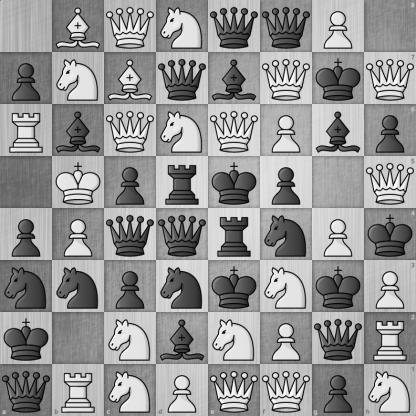B: (53, 1, 104, 52), (105, 53, 156, 104)
K: (53, 157, 104, 208)
N: (104, 364, 156, 416), (364, 364, 416, 416), (53, 53, 104, 104), (105, 313, 156, 364), (157, 1, 208, 52), (157, 105, 208, 156), (209, 313, 260, 364), (261, 261, 312, 312)
P: (156, 364, 209, 416), (364, 260, 416, 312), (53, 209, 104, 260), (261, 105, 312, 156), (261, 313, 312, 364), (313, 1, 364, 52), (313, 209, 364, 260)
Q: (364, 156, 416, 209), (260, 364, 312, 416), (364, 52, 416, 104), (209, 364, 260, 416), (105, 1, 156, 52), (105, 105, 156, 156), (209, 105, 260, 156), (261, 53, 312, 104)
R: (52, 364, 104, 416), (364, 312, 416, 364), (1, 105, 52, 156)
b: (53, 105, 104, 156), (157, 313, 208, 364), (209, 53, 260, 104), (313, 105, 364, 156)
board: (0, 0, 415, 415)
k: (364, 209, 416, 260), (1, 313, 52, 364), (209, 157, 260, 208), (209, 261, 260, 312), (313, 53, 364, 104), (313, 261, 364, 312)
n: (1, 261, 52, 312), (53, 261, 104, 312), (157, 261, 208, 312), (261, 209, 312, 260)
p: (312, 364, 364, 416), (364, 104, 416, 156), (1, 53, 52, 104), (1, 209, 52, 260), (105, 157, 156, 208), (105, 261, 156, 312), (261, 157, 312, 208)
q: (0, 364, 52, 416), (105, 209, 156, 260), (157, 53, 208, 104), (157, 209, 208, 260), (209, 1, 260, 52), (261, 1, 312, 52), (313, 313, 364, 364)
r: (157, 157, 208, 208), (209, 209, 260, 260)
